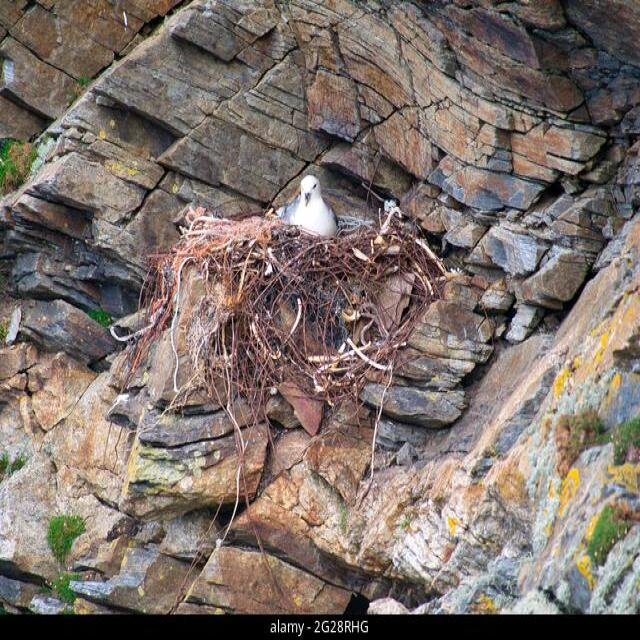trash: (135, 221, 507, 524)
